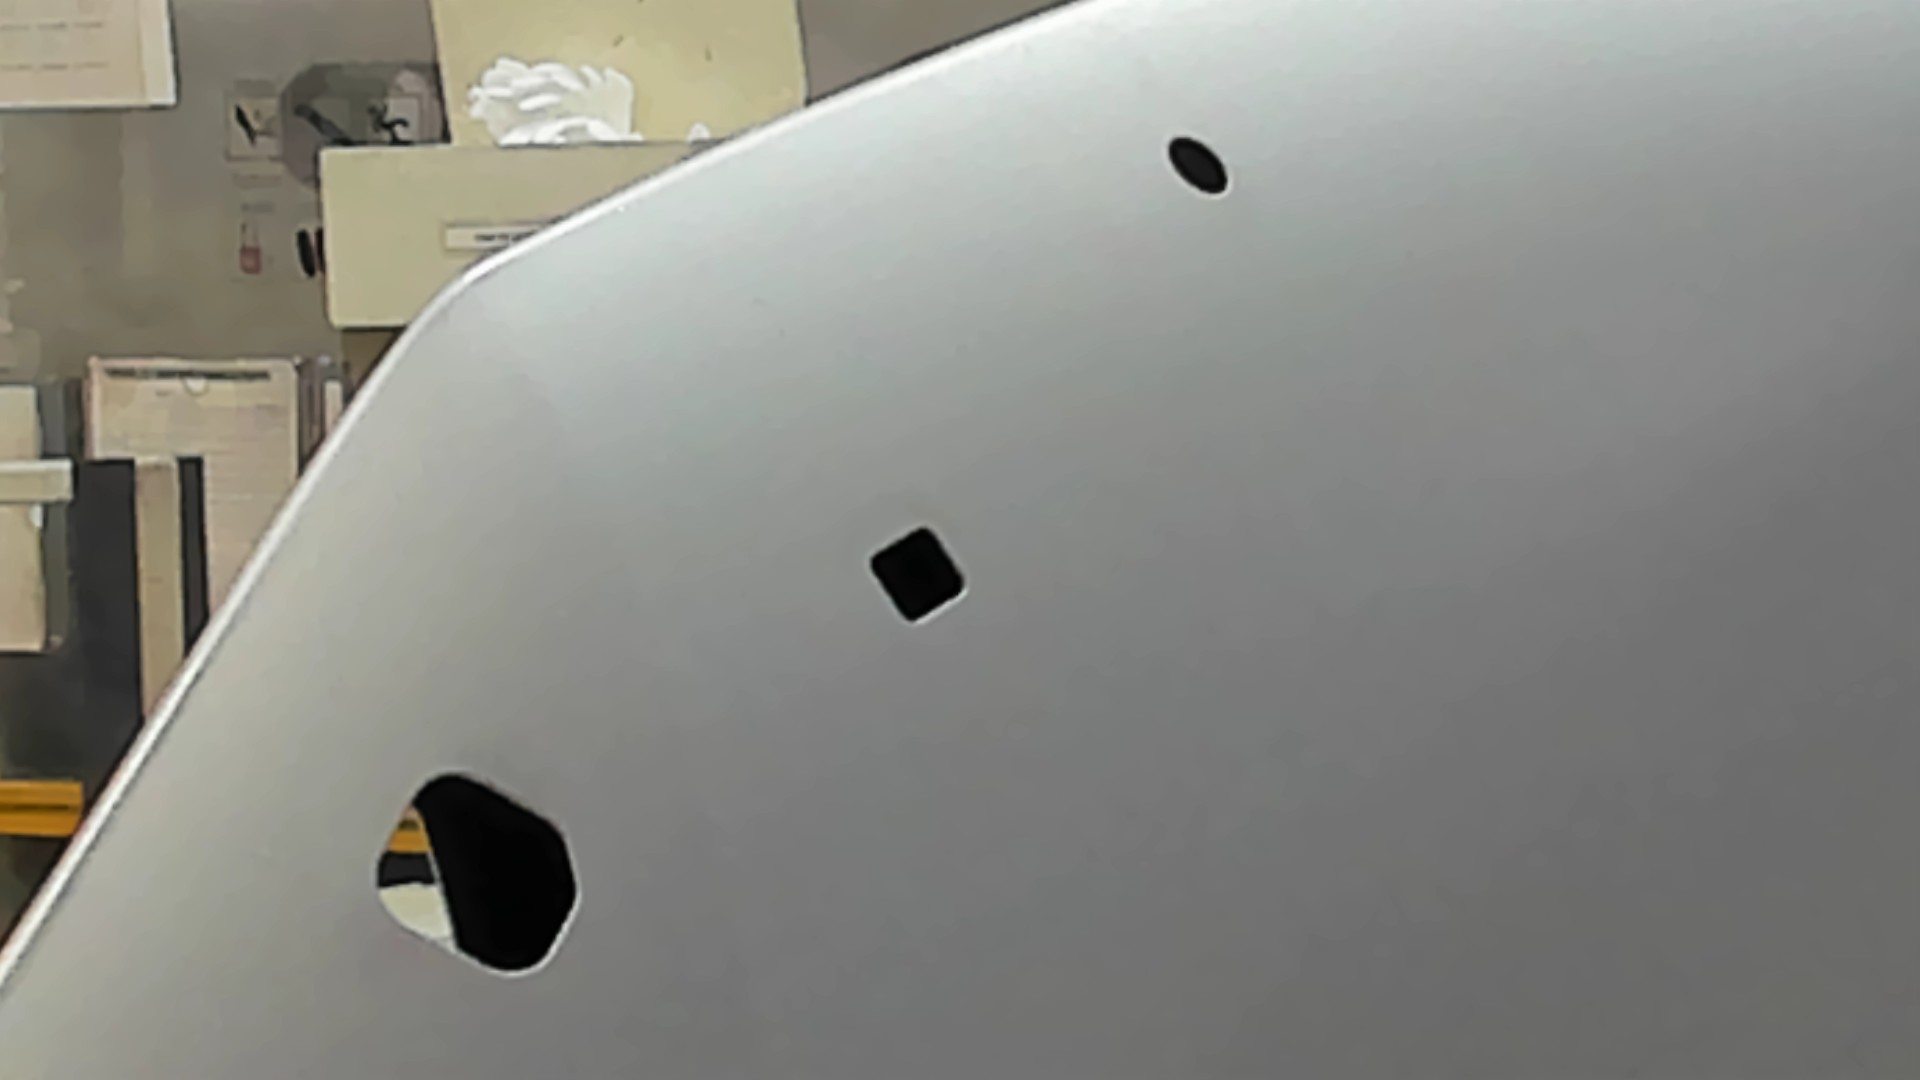Agujero: (866, 524, 972, 625), (1166, 135, 1229, 196)
Agujerote: (372, 771, 582, 977)
